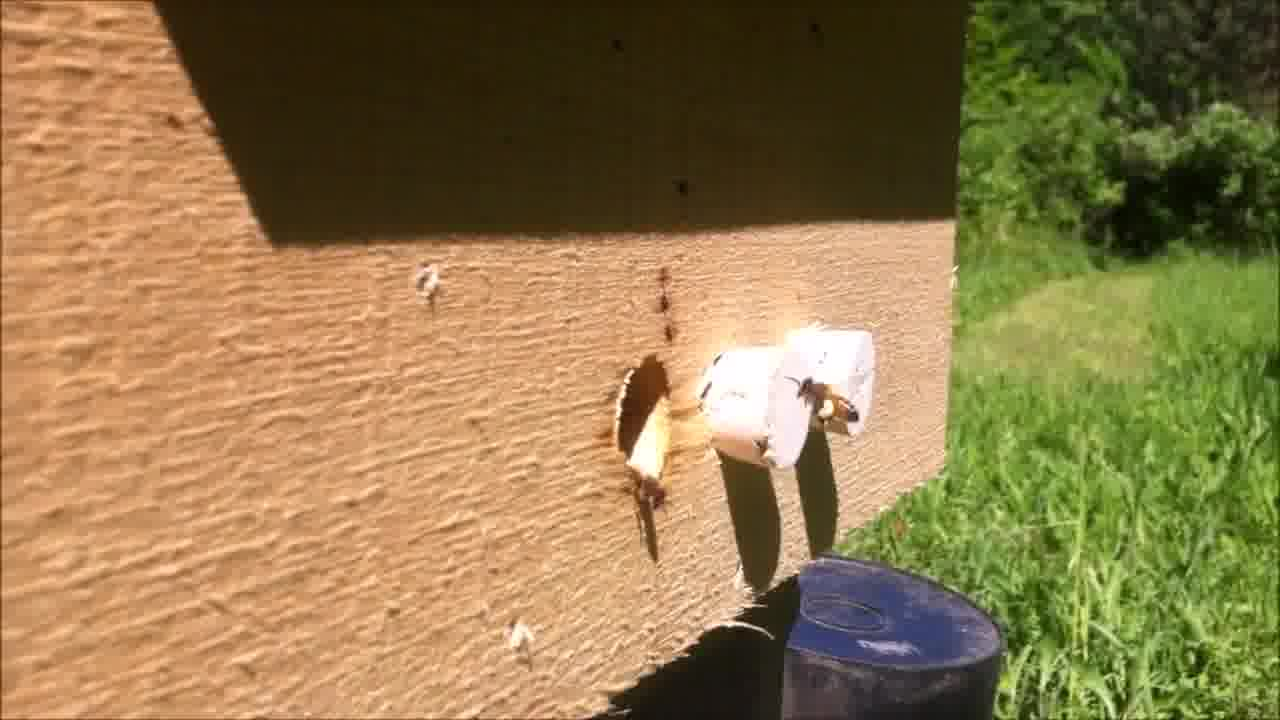pollen: (796, 377, 857, 429)
